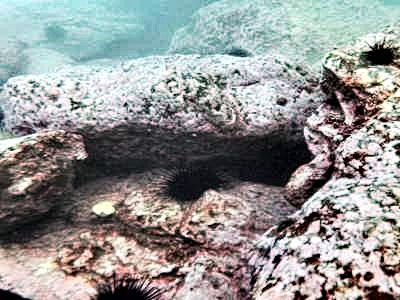urchin: (166, 167, 224, 198), (95, 276, 144, 295), (368, 42, 390, 65)
